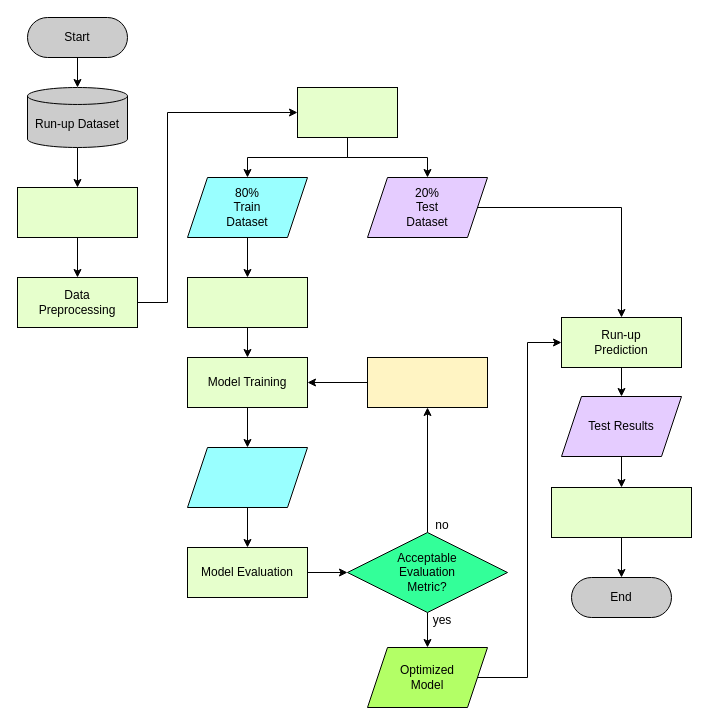
Image size: 709x725. Some labels were removed from this diagram. Here are the shapes that lost their labels. From the top down, the box of each, then its label:
(296, 86, 398, 138): Data Splitting
(16, 186, 138, 238): Exploratory Data Analysis
(186, 276, 308, 328): Feature Selection
(366, 356, 488, 408): Hyperparameter Tuning
(186, 446, 308, 508): Training Result
(550, 486, 692, 538): Model Interpretation & Explanation
